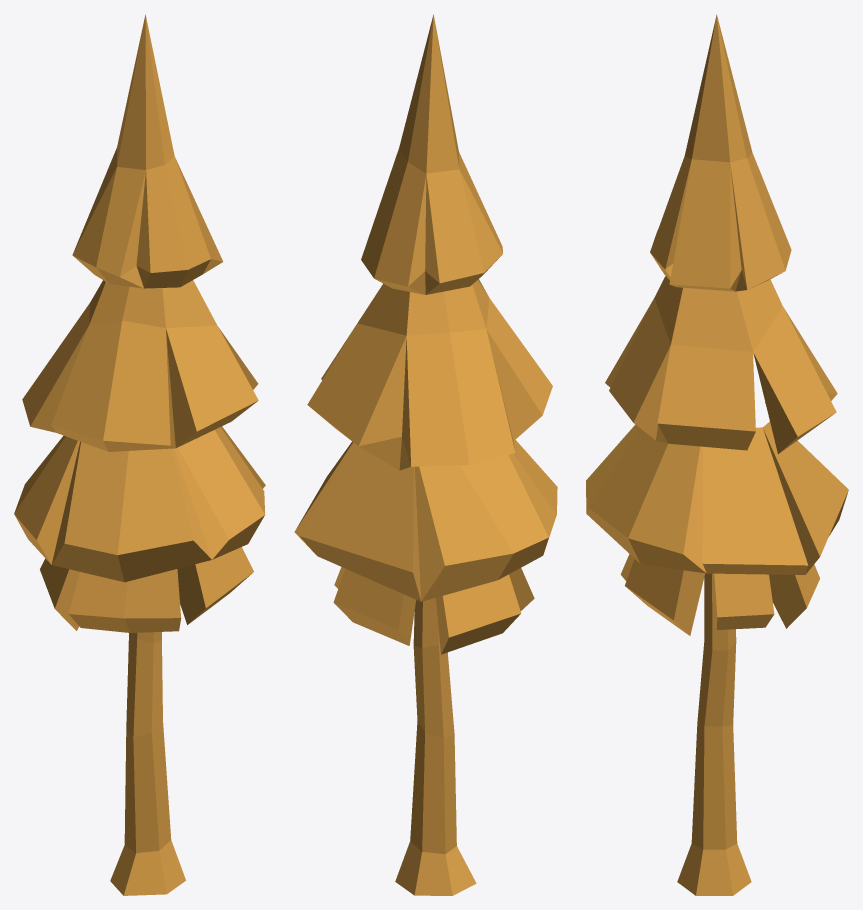
Rendered from tree-forest.glb.
The picture shows the model from 3 angles, left to right: view 1: azimuth 30°, elevation 25°; view 2: azimuth 150°, elevation 25°; view 3: azimuth 270°, elevation 25°; orthographic projection.
Parts seen in each view (by area): view 1: tree-forest; view 2: tree-forest; view 3: tree-forest.
Boxes of the visible parts, x1,y1,x2,y2 form: tree-forest: [14, 14, 265, 895]; tree-forest: [294, 14, 557, 895]; tree-forest: [586, 14, 848, 895].
Bounding box in the file's own units: 2.41 × 8.85 × 2.43.
